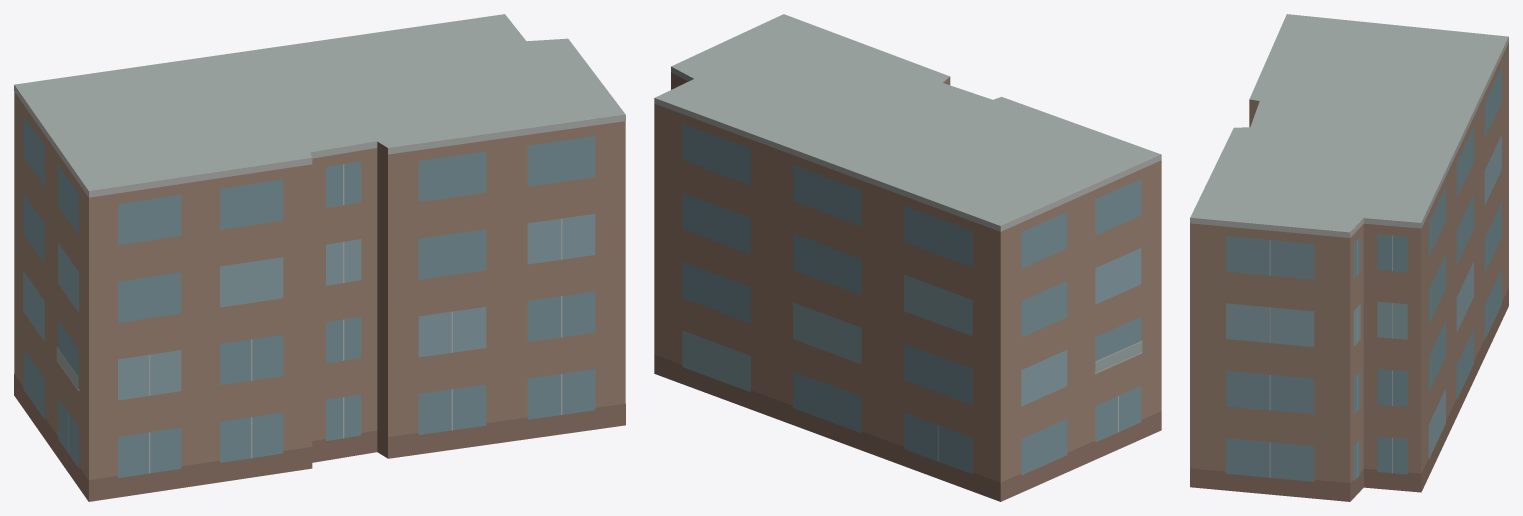
The model's file is survey-upis-32603424.glb.
3 renders of one model, left to right at view 1: azimuth 30°, elevation 25°; view 2: azimuth 150°, elevation 25°; view 3: azimuth 270°, elevation 25°, orthographic. The views are drawn at different scales.
Parts seen in each view (by area): view 1: survey-upis-32603424.tmp; view 2: survey-upis-32603424.tmp; view 3: survey-upis-32603424.tmp.
Boxes of the visible parts, <box> form: survey-upis-32603424.tmp: <box>14,14,625,501</box>; survey-upis-32603424.tmp: <box>654,14,1161,501</box>; survey-upis-32603424.tmp: <box>1190,14,1508,501</box>.
Size of the model in its own units: 20.35 by 11.7 by 12.55.
